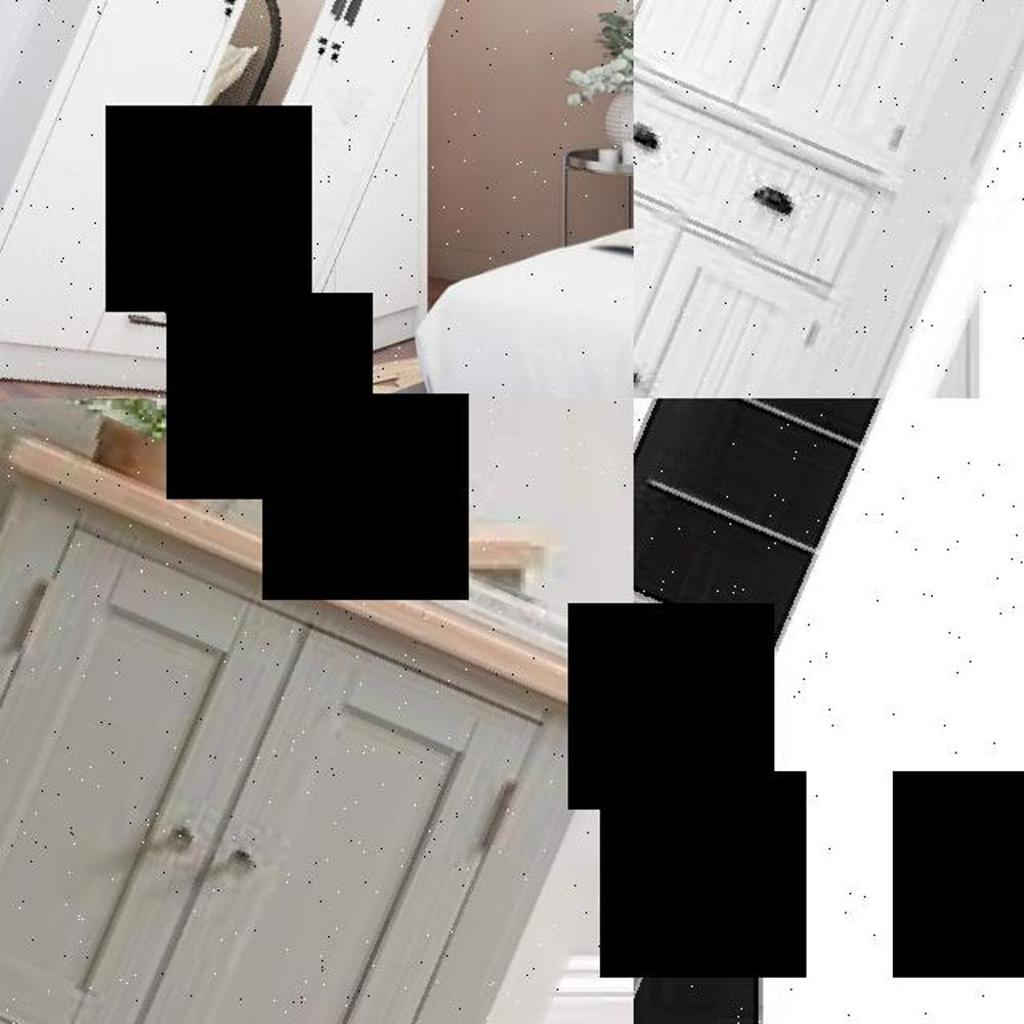cabinet: (0, 426, 634, 1024), (0, 0, 509, 398), (634, 398, 907, 1024), (634, 0, 1024, 398)
